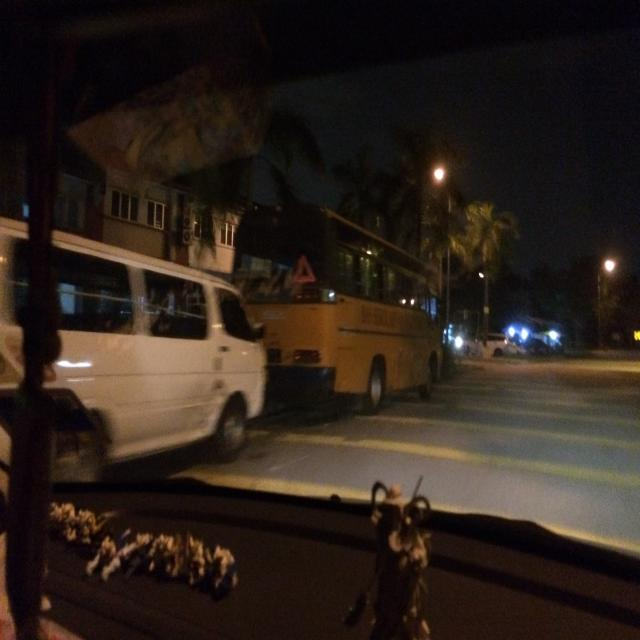Bus: (219, 172, 455, 432)
car: (8, 434, 640, 640), (0, 213, 265, 471), (499, 283, 579, 370)
